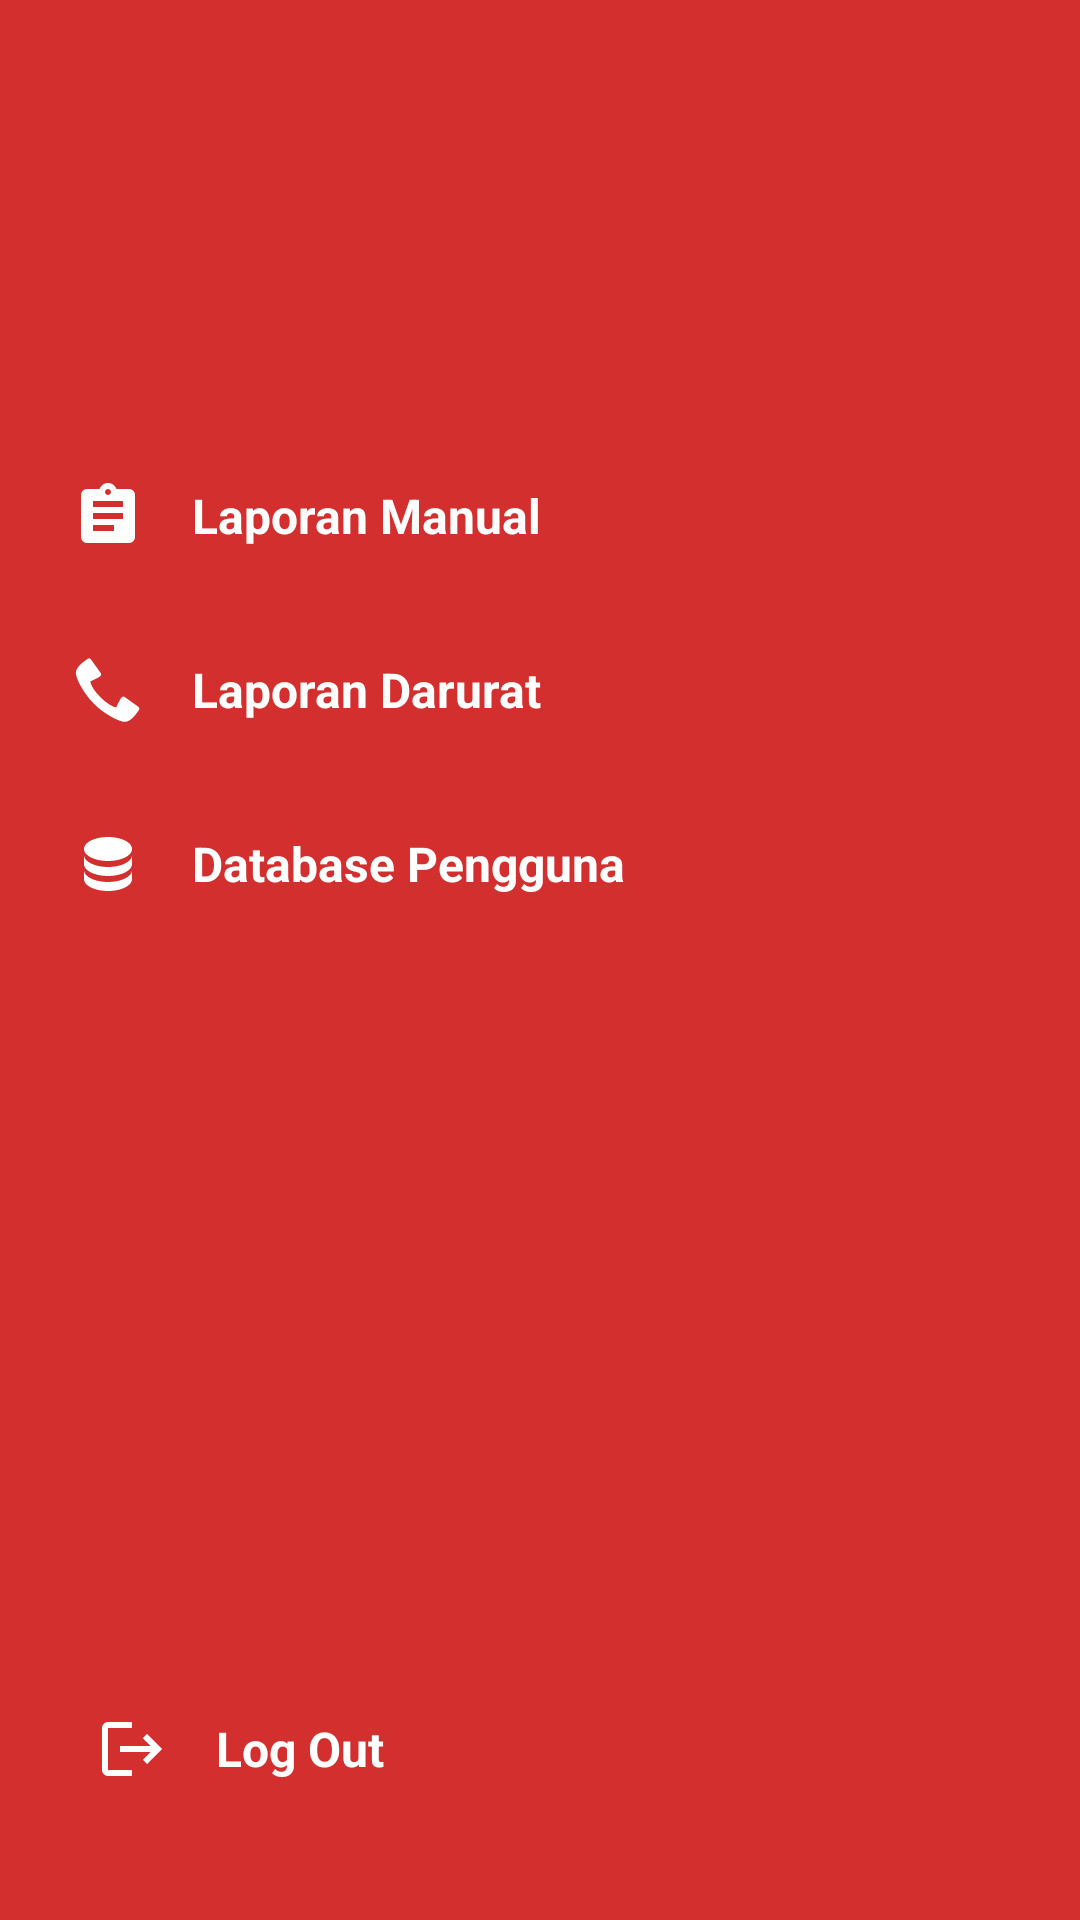

Screen size 1080*1920. Icon name, then its box in pixels as box=[x1, y1, x2, y2]:
phone call: box=[76, 658, 140, 722]
